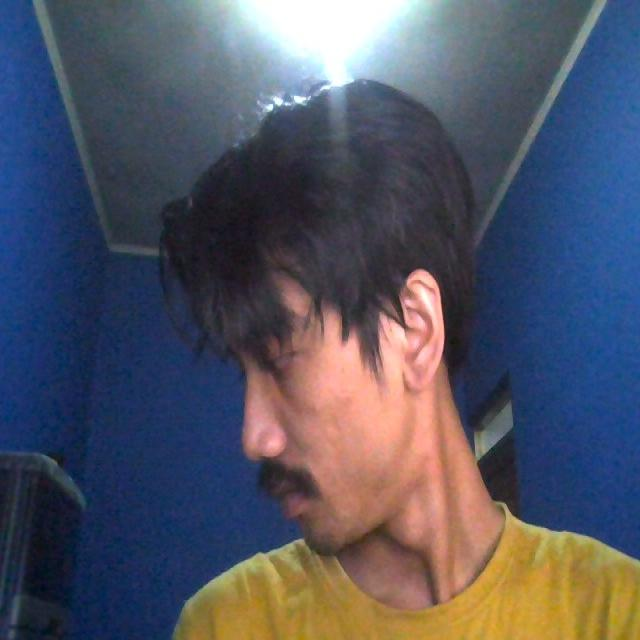Melihat kekanan: (124, 53, 510, 545)
